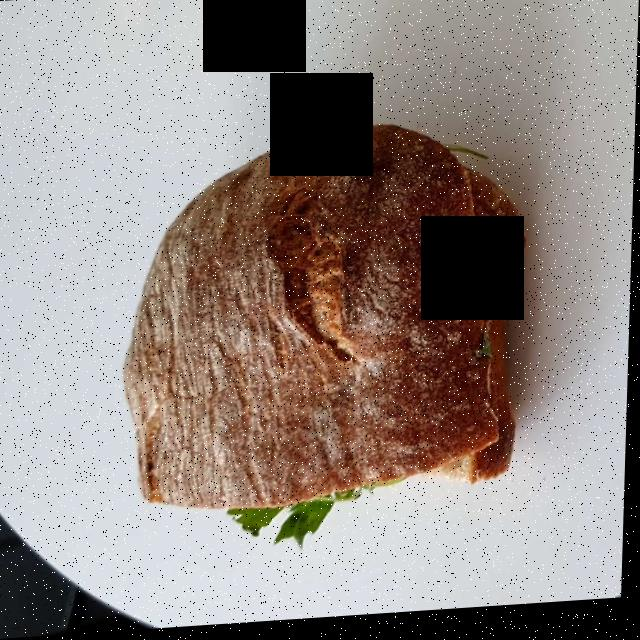salad-rocket: (229, 486, 356, 541)
